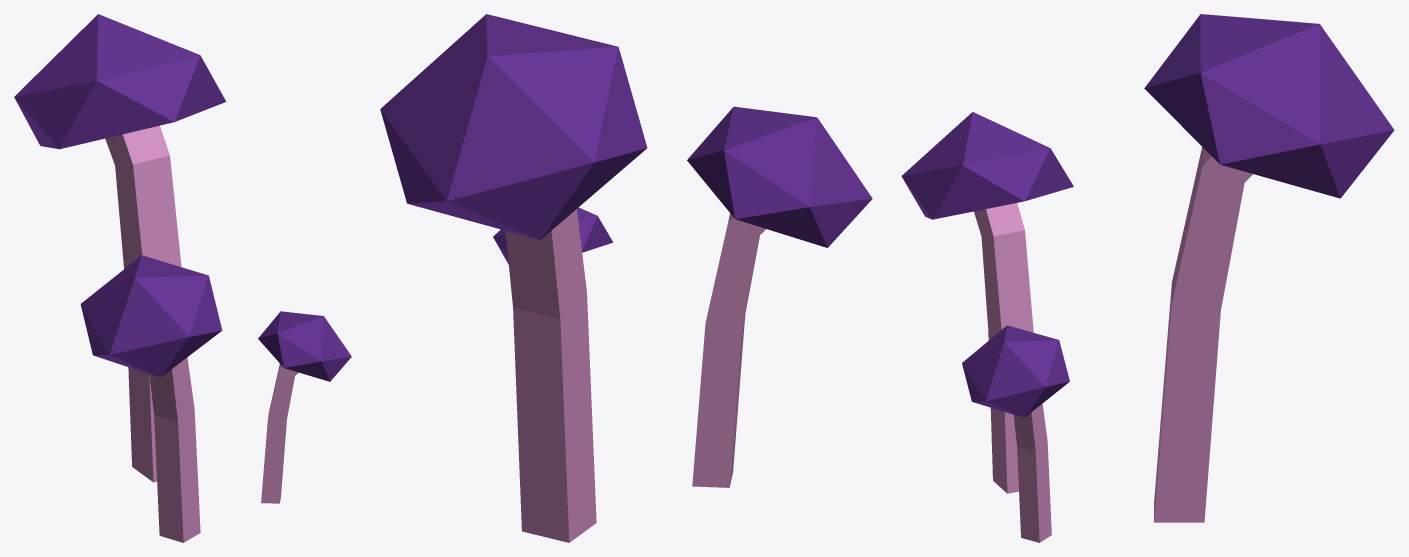
File: Mushroom_Grass_02.fbx
3 renders of one model, left to right at view 1: azimuth 30°, elevation 25°; view 2: azimuth 150°, elevation 25°; view 3: azimuth 270°, elevation 25°, orthographic. The views are drawn at different scales.
Visible parts, largest first — view 1: Vege_Grass_02; view 2: Vege_Grass_02; view 3: Vege_Grass_02.
Boxes of the visible parts, bbox=[...] form: Vege_Grass_02: bbox=[14, 14, 351, 542]; Vege_Grass_02: bbox=[380, 14, 872, 542]; Vege_Grass_02: bbox=[901, 14, 1394, 542].
Bounding box in the file's own units: 60.83 × 93.63 × 85.86.
